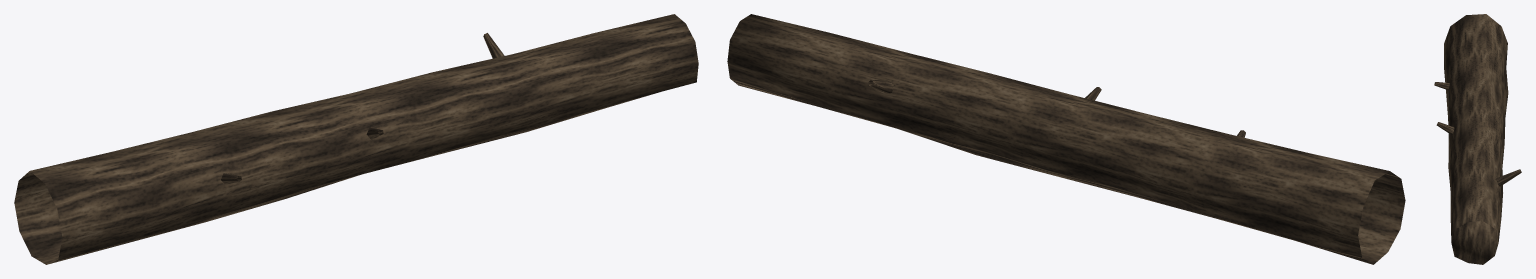
The model's file is ENV_FallenLog_01.fbx.
The picture shows the model from 3 angles, left to right: view 1: azimuth 30°, elevation 25°; view 2: azimuth 150°, elevation 25°; view 3: azimuth 270°, elevation 25°; orthographic projection. The views are drawn at different scales.
Parts seen in each view (by area): view 1: ENV_FallenLog_01_LOD0; view 2: ENV_FallenLog_01_LOD0; view 3: ENV_FallenLog_01_LOD0.
Boxes of the visible parts, x1,y1,x2,y2 form: ENV_FallenLog_01_LOD0: (14, 14, 698, 264); ENV_FallenLog_01_LOD0: (727, 14, 1405, 264); ENV_FallenLog_01_LOD0: (1434, 14, 1521, 264).
Size of what is drawn, in the model's own units: 6.97 by 0.9077 by 1.23.
